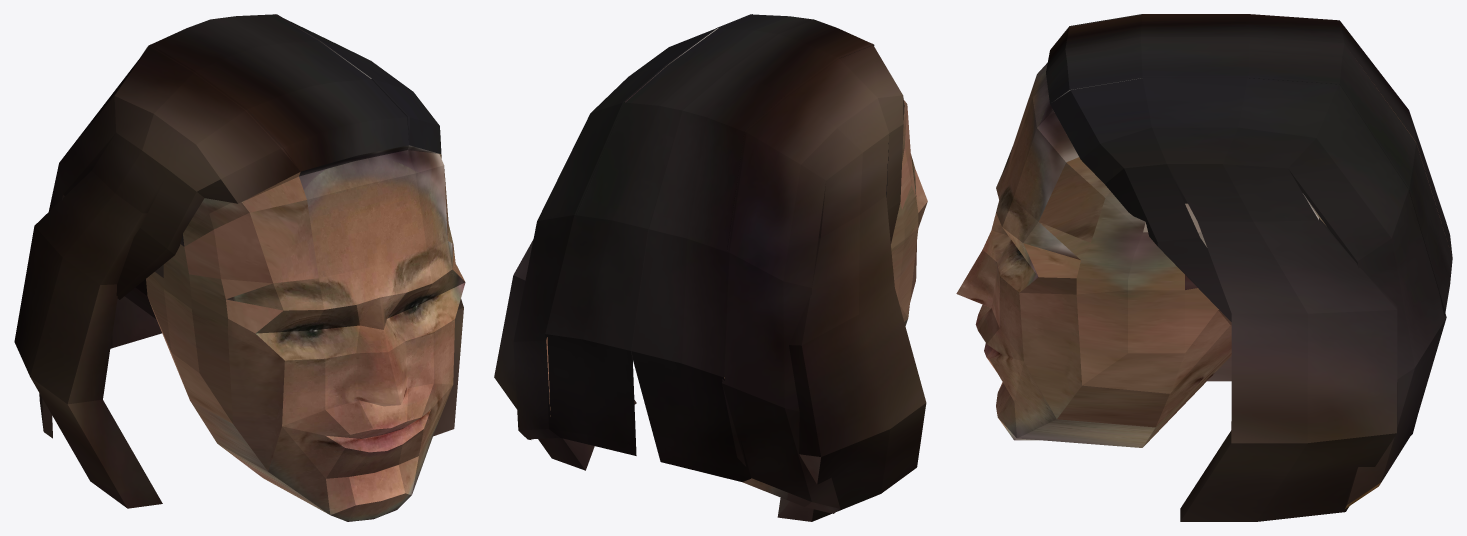
File: lucia.glb
The picture shows the model from 3 angles, left to right: view 1: azimuth 30°, elevation 25°; view 2: azimuth 150°, elevation 25°; view 3: azimuth 270°, elevation 25°; orthographic projection. The views are drawn at different scales.
Parts seen in each view (by area): view 1: Lucia; view 2: Lucia; view 3: Lucia.
Part boxes in pixels (x1,y1,x2,y2): Lucia: (14,14,465,521); Lucia: (494,14,927,521); Lucia: (956,14,1452,521).
Size of the model in its own units: 2.11 by 2.06 by 2.25.
Materials: 1 (1 with a texture image).
